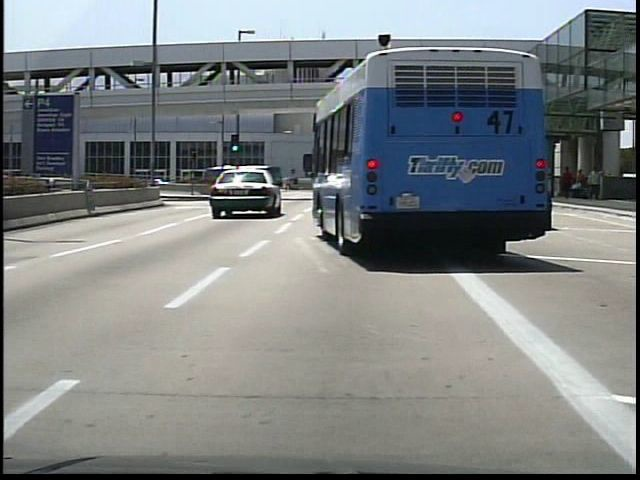person: (586, 166, 604, 199), (561, 164, 573, 200), (575, 168, 586, 199), (281, 173, 292, 191), (290, 175, 301, 193)
